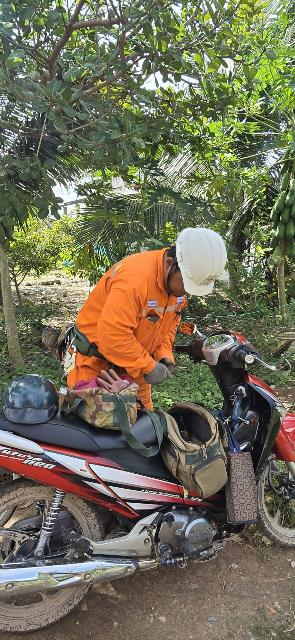harness: (56, 316, 132, 377), (140, 358, 172, 386), (161, 353, 179, 372)
helmet: (167, 219, 237, 294)
